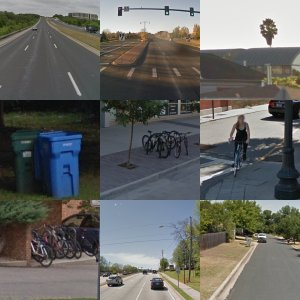公車: (200, 104, 287, 162), (201, 164, 276, 200), (17, 138, 91, 166), (136, 227, 172, 257)
棕梠樹: (5, 225, 101, 300), (112, 136, 188, 196)
汽車: (200, 24, 271, 86), (40, 49, 75, 63)
紅綠燈: (71, 17, 91, 43), (1, 7, 17, 26)
